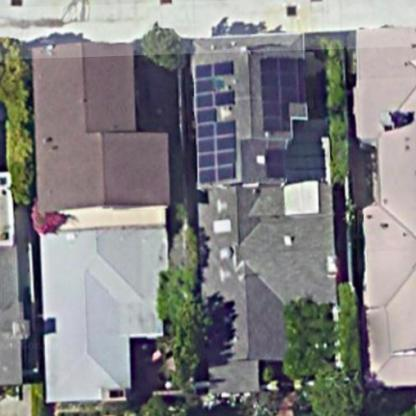solar_panel: (183, 49, 241, 190), (253, 47, 311, 177)
